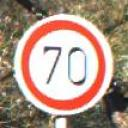speed_limit_70: (11, 11, 117, 117)
